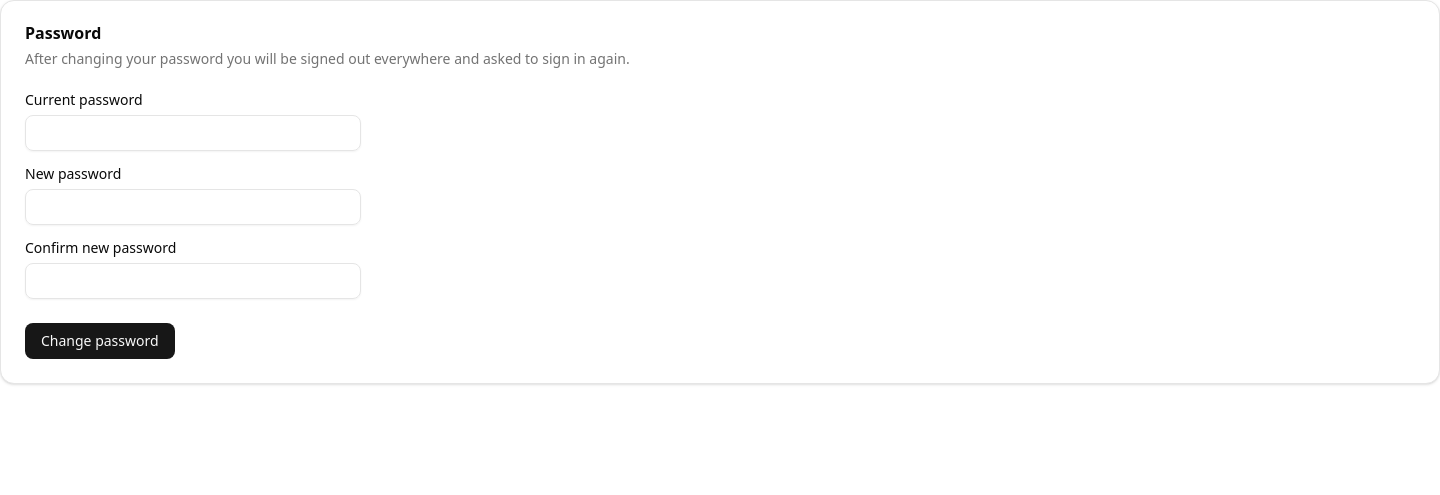
PasswordForm › shows a wrong current password on its field and clears the inputs
Type "wrong-secret-1" into the password field labelled "Current password" at coordinates (193, 133), box [25,115,361,151]
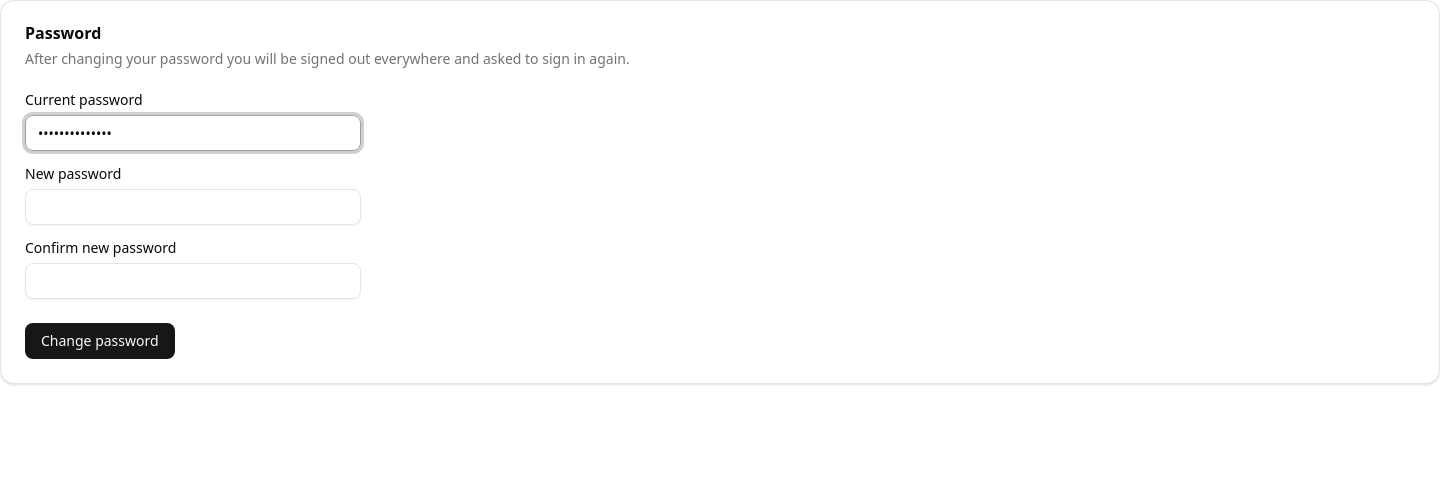
Type "new-secret-1" into the password field labelled "New password" at coordinates (193, 207), box [25,189,361,225]
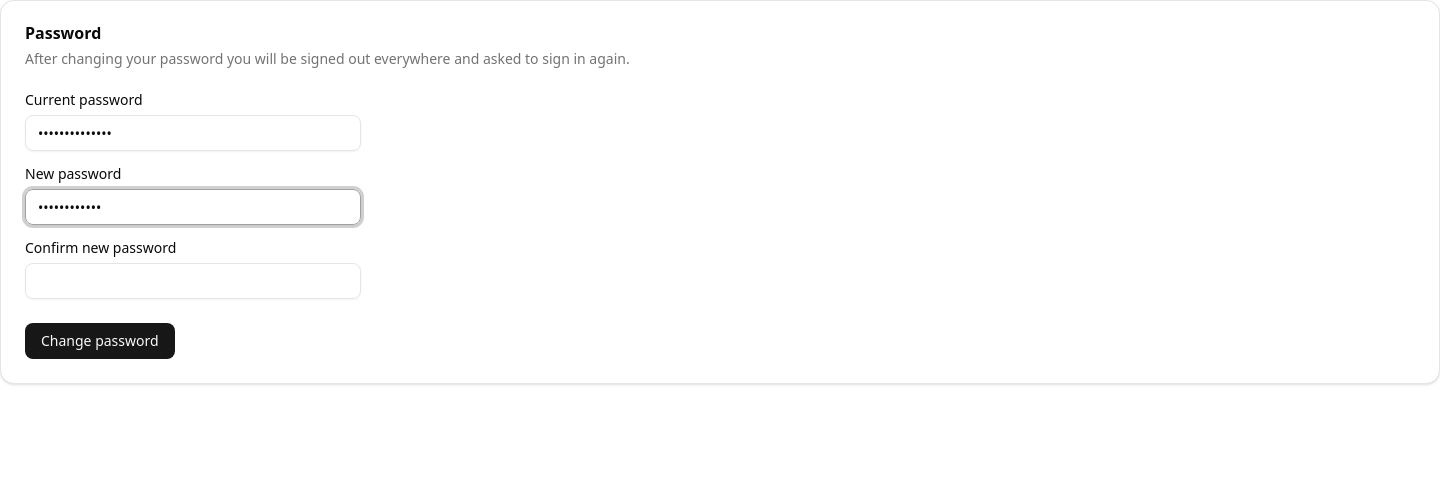
Type "new-secret-1" into the password field labelled "Confirm new password" at coordinates (193, 281), box [25,263,361,299]
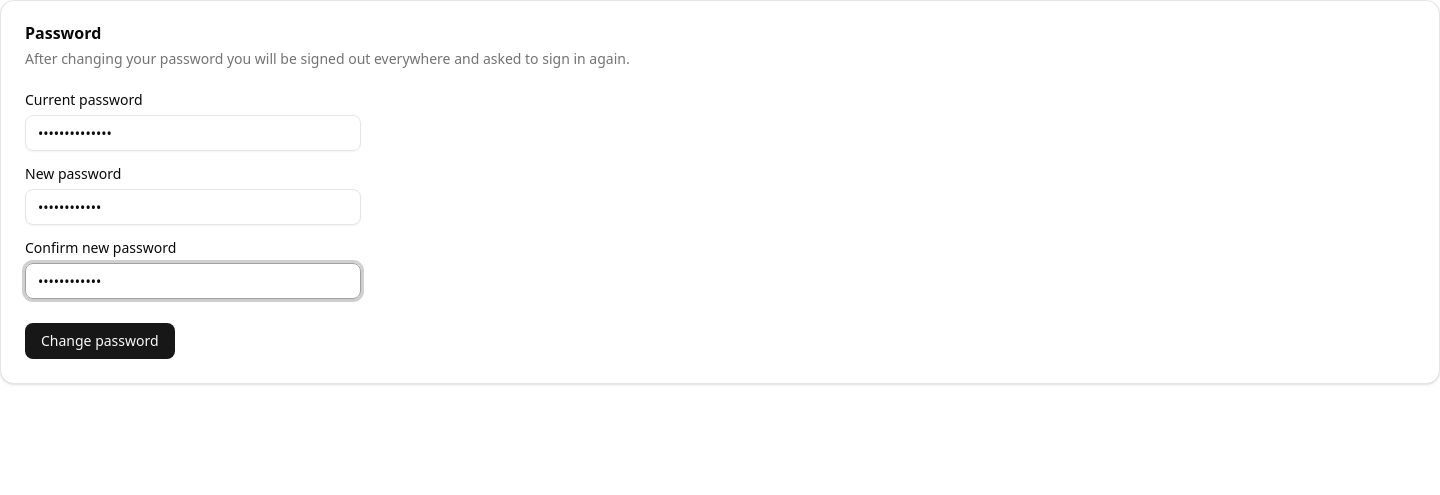
Click the button "Change password" at coordinates (100, 341), box [25,323,175,359]
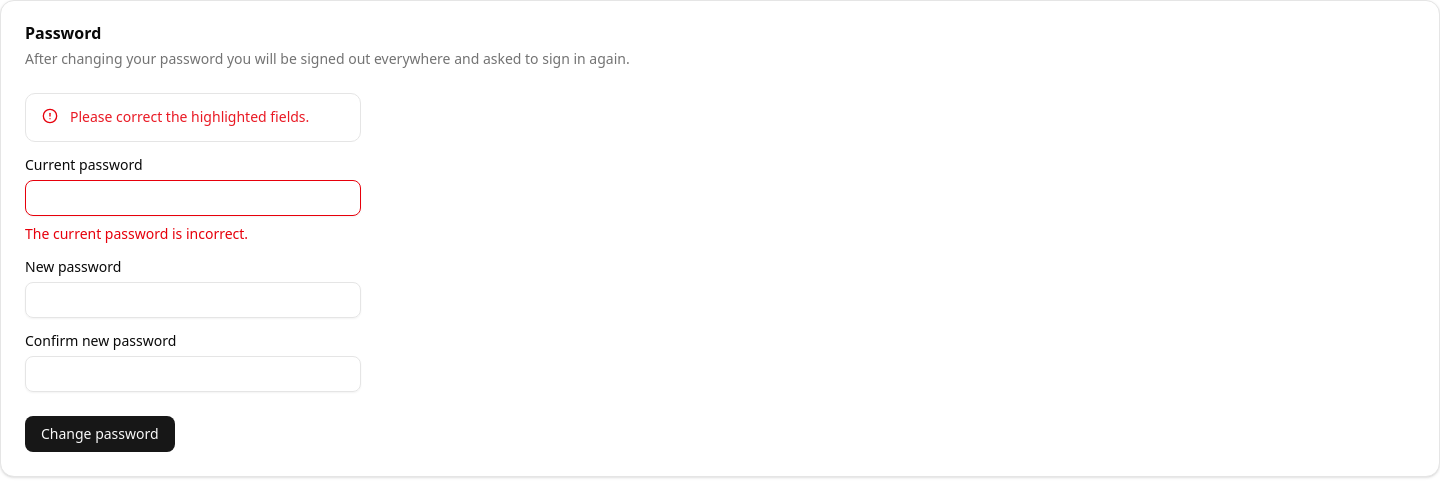
Result: the text "The current password is incorrect." is shown at [25,224,248,243]
Result: the password field labelled "Current password" is empty at [25,180,361,216]
Result: the password field labelled "New password" is empty at [25,282,361,318]
